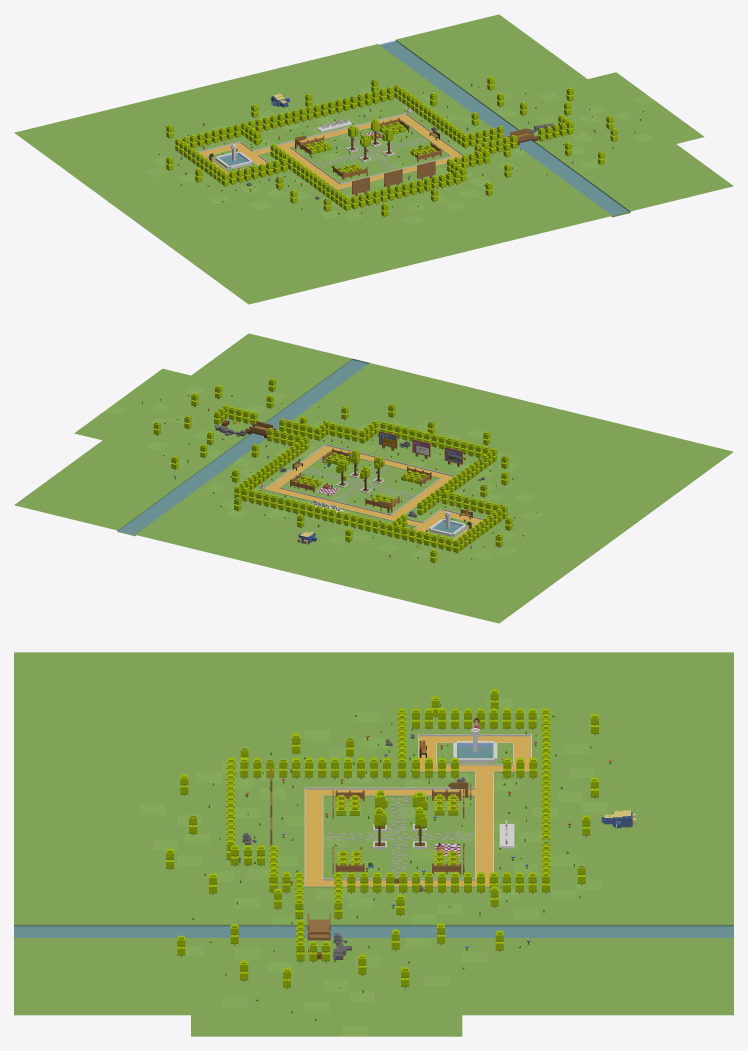
The model's file is Portfolio.glb.
The picture shows the model from 3 angles, top to bottom: view 1: azimuth 30°, elevation 25°; view 2: azimuth 150°, elevation 25°; view 3: azimuth 270°, elevation 25°; orthographic projection. The views are drawn at different scales.
Visible parts, largest first — view 1: Level; view 2: Level; view 3: Level.
Boxes of the visible parts, box(x1,y1,x2,y2) form: Level: box(14, 14, 733, 304); Level: box(14, 333, 733, 623); Level: box(14, 652, 733, 1036).
Size of what is drawn, in the model's own units: 310 by 15.62 by 245.
Materials: 74 (3 with a texture image).
